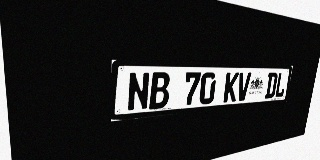0: (199, 72, 217, 105)
7: (182, 72, 201, 106)
B: (149, 72, 170, 110)
D: (265, 73, 278, 99)
K: (223, 72, 239, 103)
L: (274, 73, 287, 98)
N: (127, 72, 150, 112)
V: (236, 72, 251, 101)
